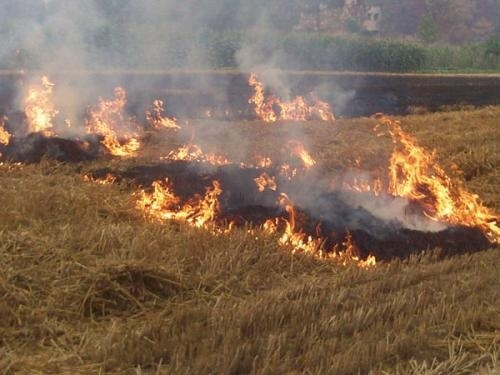fire: (372, 114, 500, 258), (130, 173, 238, 234), (82, 84, 158, 158), (7, 72, 73, 140), (243, 73, 335, 121)
